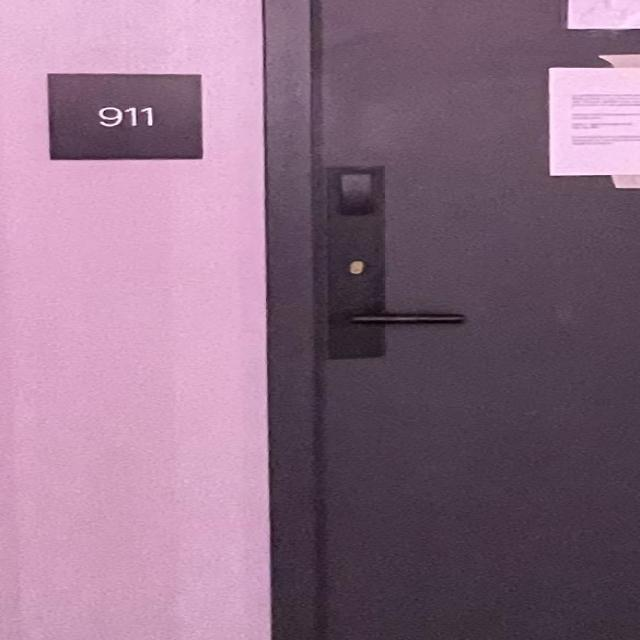door_handle: (335, 301, 481, 336)
